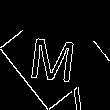M_N: (29, 27, 81, 83)
